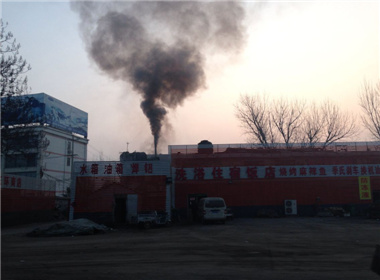dust: (109, 70, 178, 150)
